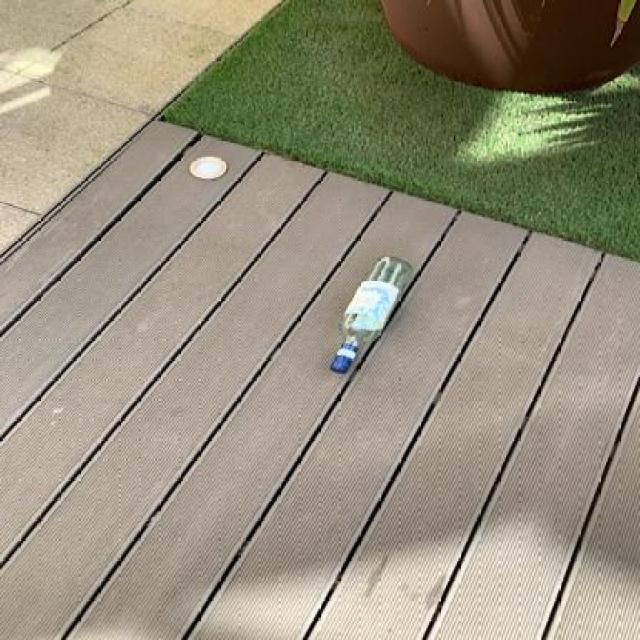trash: (324, 254, 418, 378)
